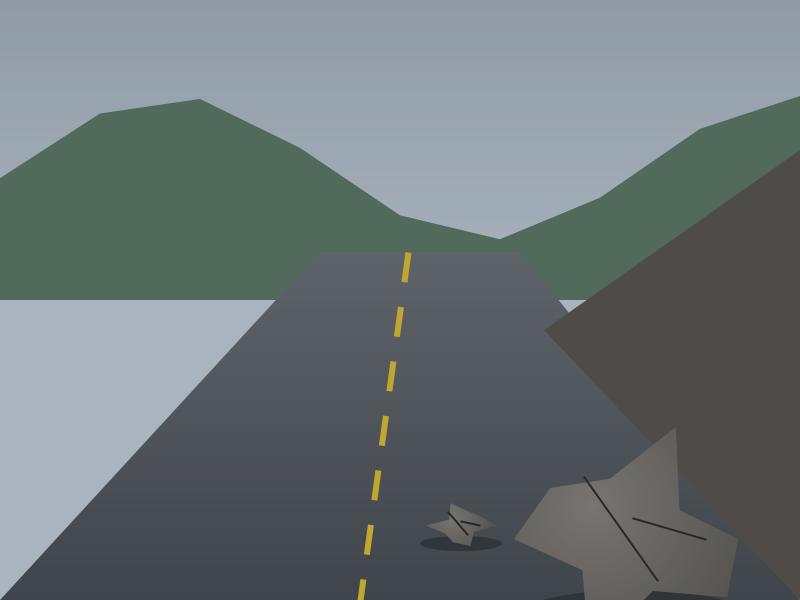ROAD_OBSTACLE: (512, 436, 754, 600), (430, 504, 492, 547)
